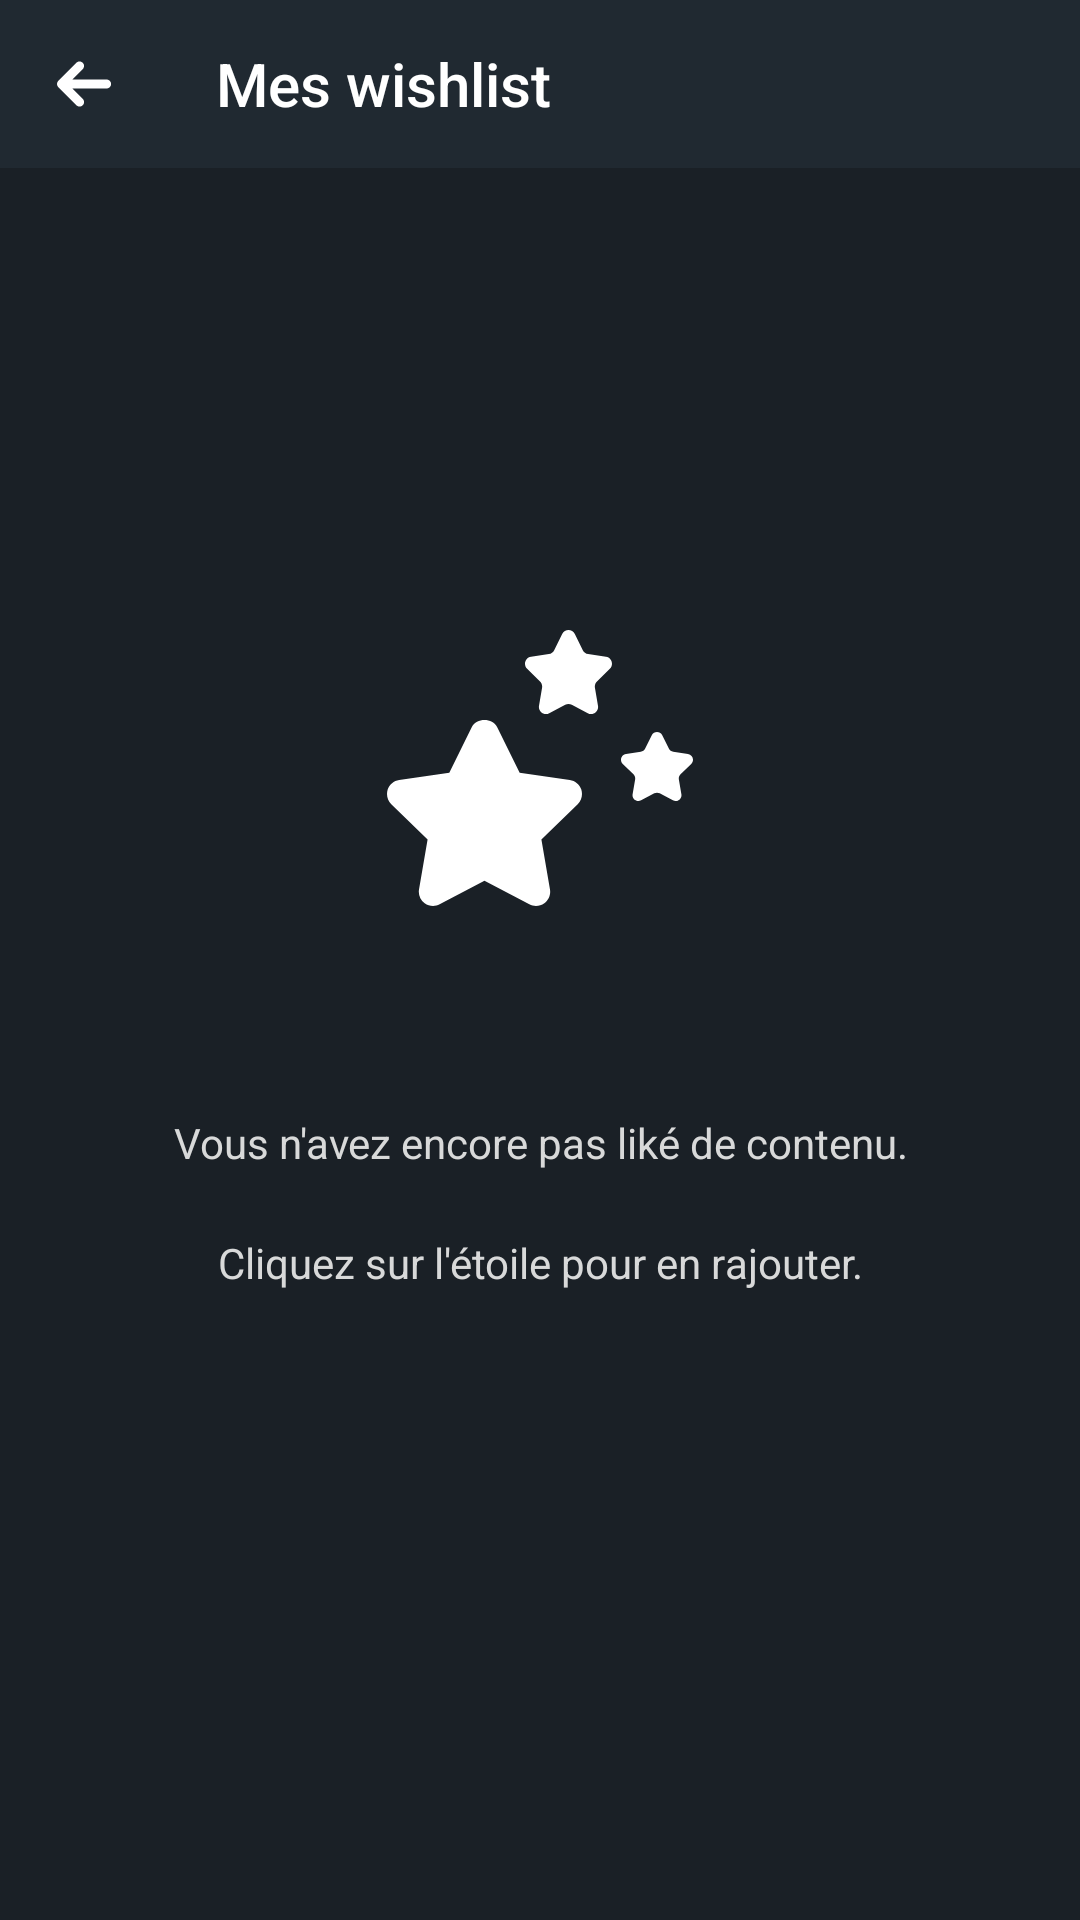

Where to tap for icons on this 1080×1920 app screen, as (x=x, y=y):
whishlists: (x=540, y=768)
